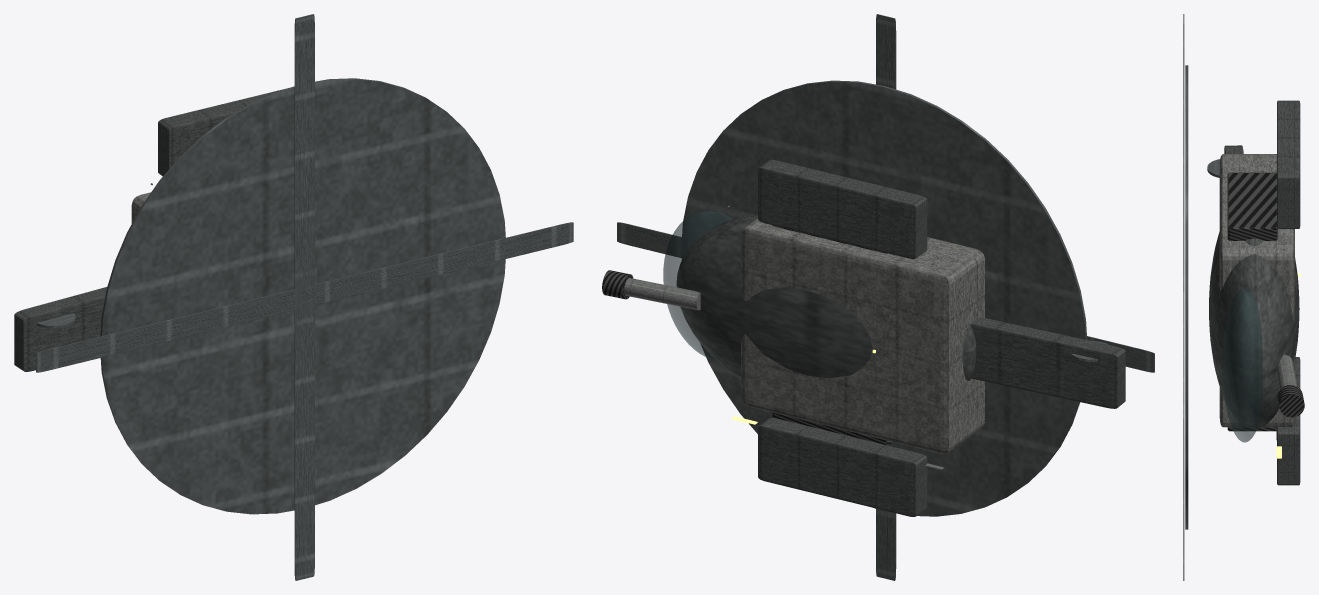
Rendered from c-u21-transport-helicopter-lod0.glb.
3 views of the same model, side by side, from view 1: azimuth 30°, elevation 25°; view 2: azimuth 150°, elevation 25°; view 3: azimuth 270°, elevation 25° (orthographic).
Parts seen in each view (by area): view 1: rotor_main, rotor_blade_0, rotor_blade_3, rotor_blade_1, rotor_blade_2, tail_boom, landing_sponson_1; view 2: rotor_main, transport_cabin, helicopter_fuselage, landing_sponson_1, landing_sponson_-1, tail_boom, cockpit, rotor_blade_1, chin_gun_barrel_0, rotor_blade_3, rotor_blade_0, rotor_blade_2; view 3: helicopter_fuselage, cockpit, transport_cabin, cargo_door_1, landing_sponson_1, rotor_main, landing_sponson_-1, chin_gun_muzzle_0, rotor_blade_1, chin_gun_barrel_0, rotor_blade_3, rotor_blade_0 (+2 smaller).
Boxes of the visible parts, box(x1,y1,x2,y2) form: rotor_main: box(100, 78, 505, 514); rotor_blade_0: box(279, 222, 573, 313); rotor_blade_3: box(294, 268, 314, 580); rotor_blade_1: box(294, 14, 314, 326); rotor_blade_2: box(36, 281, 325, 372); tail_boom: box(14, 287, 106, 371); landing_sponson_1: box(158, 88, 288, 176); rotor_main: box(681, 80, 1087, 516); transport_cabin: box(741, 218, 984, 453); helicopter_fuselage: box(676, 214, 977, 380); landing_sponson_1: box(758, 159, 927, 258); landing_sponson_-1: box(758, 417, 927, 516); tail_boom: box(971, 317, 1125, 408); cockpit: box(663, 210, 732, 360); rotor_blade_1: box(876, 14, 896, 89); chin_gun_barrel_0: box(624, 278, 700, 310); rotor_blade_3: box(876, 509, 896, 580); rotor_blade_0: box(617, 222, 681, 257); rotor_blade_2: box(1087, 336, 1154, 372); helicopter_fuselage: box(1209, 232, 1299, 428); cockpit: box(1223, 288, 1262, 442); transport_cabin: box(1219, 154, 1294, 427); cargo_door_1: box(1227, 172, 1277, 240); landing_sponson_1: box(1277, 100, 1300, 228); rotor_main: box(1185, 65, 1188, 529); landing_sponson_-1: box(1277, 357, 1300, 485); chin_gun_muzzle_0: box(1277, 385, 1304, 417); rotor_blade_1: box(1183, 14, 1184, 291); chin_gun_barrel_0: box(1276, 354, 1297, 389); rotor_blade_3: box(1183, 437, 1184, 580); rotor_blade_0: box(1183, 292, 1184, 436).
Size of what is drawn, in the model's own units: 18.91 by 18.91 by 3.73.
7 materials, 7 textured.
